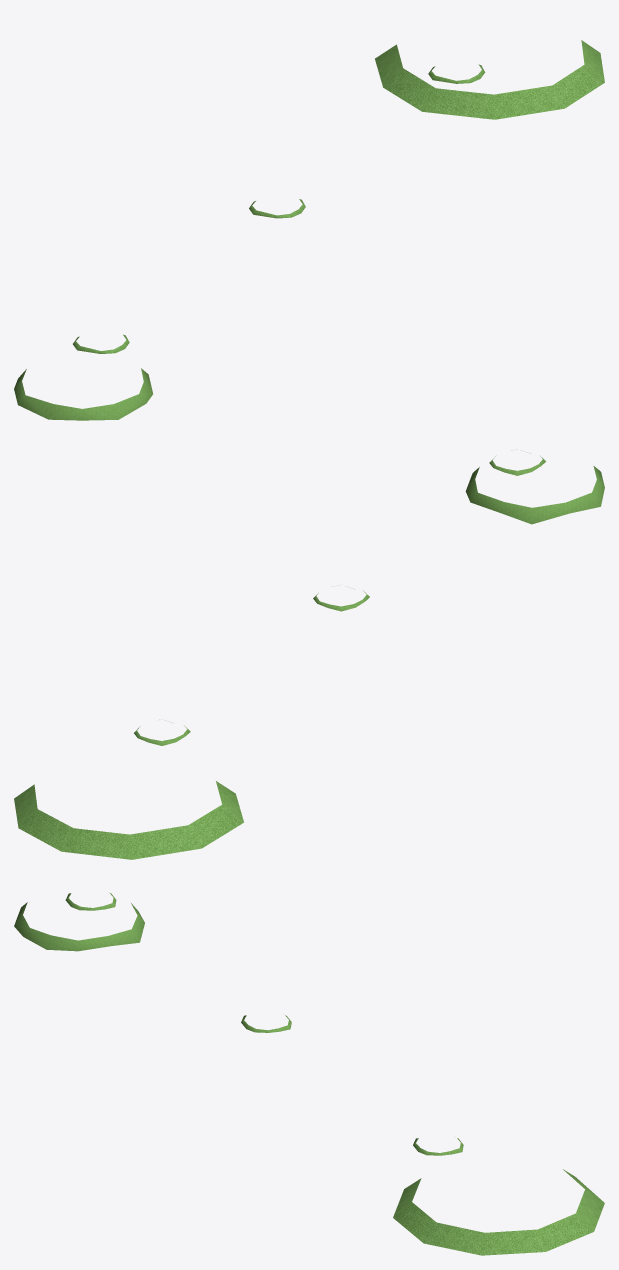
The model's file is kd_stage_1366d7_19_3.glb.
3 renders of one model, top to bottom at view 1: azimuth 30°, elevation 25°; view 2: azimuth 210°, elevation 25°; view 3: azimuth 270°, elevation 25°, orthographic. The views are drawn at different scales.
Parts seen in each view (by area): view 1: kd_stage_1366d7_19_3; view 2: kd_stage_1366d7_19_3; view 3: kd_stage_1366d7_19_3.
Part boxes in pixels (x1,y1,x2,y2): kd_stage_1366d7_19_3: (14, 40, 604, 420); kd_stage_1366d7_19_3: (14, 456, 604, 859); kd_stage_1366d7_19_3: (14, 893, 604, 1255).
Size of the model in its own units: 764 by 38.94 by 529.
Materials: 1 (1 with a texture image).
